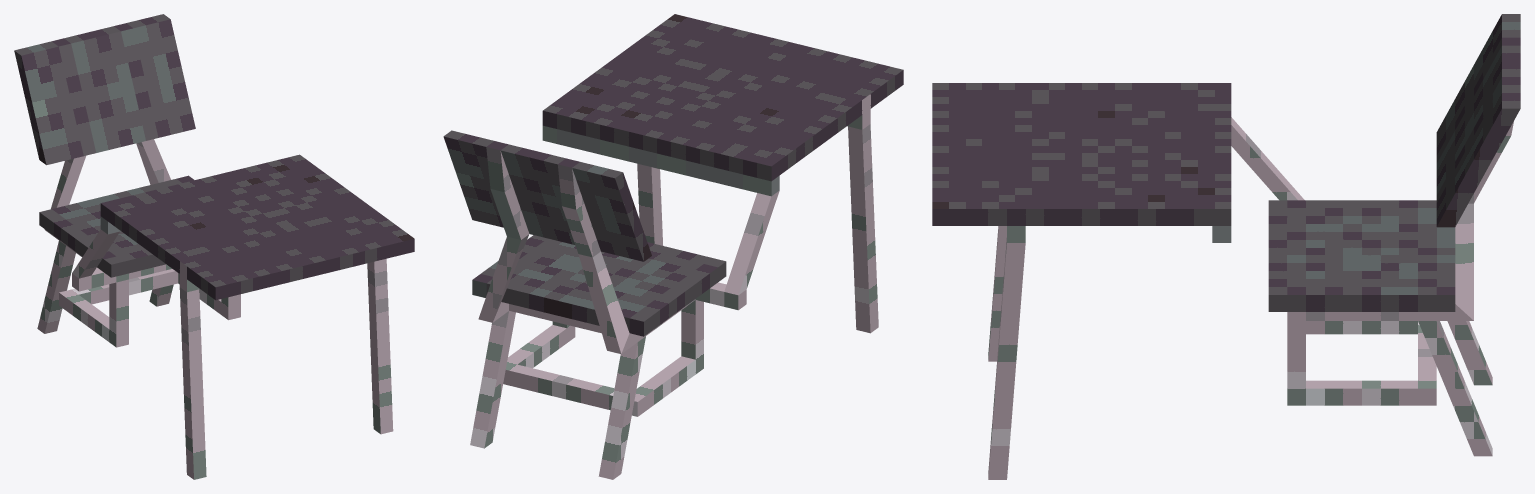
File: Desk.fbx
3 renders of one model, left to right at view 1: azimuth 30°, elevation 25°; view 2: azimuth 150°, elevation 25°; view 3: azimuth 270°, elevation 25°, orthographic. The views are drawn at different scales.
Parts seen in each view (by area): view 1: Cube.138; view 2: Cube.138; view 3: Cube.138.
Part boxes in pixels (x1,y1,x2,y2): Cube.138: (14, 14, 414, 479); Cube.138: (443, 14, 903, 479); Cube.138: (932, 14, 1520, 479).
Bounding box in the file's own units: 100 × 131 × 197.
Materials: 1 (1 with a texture image).
